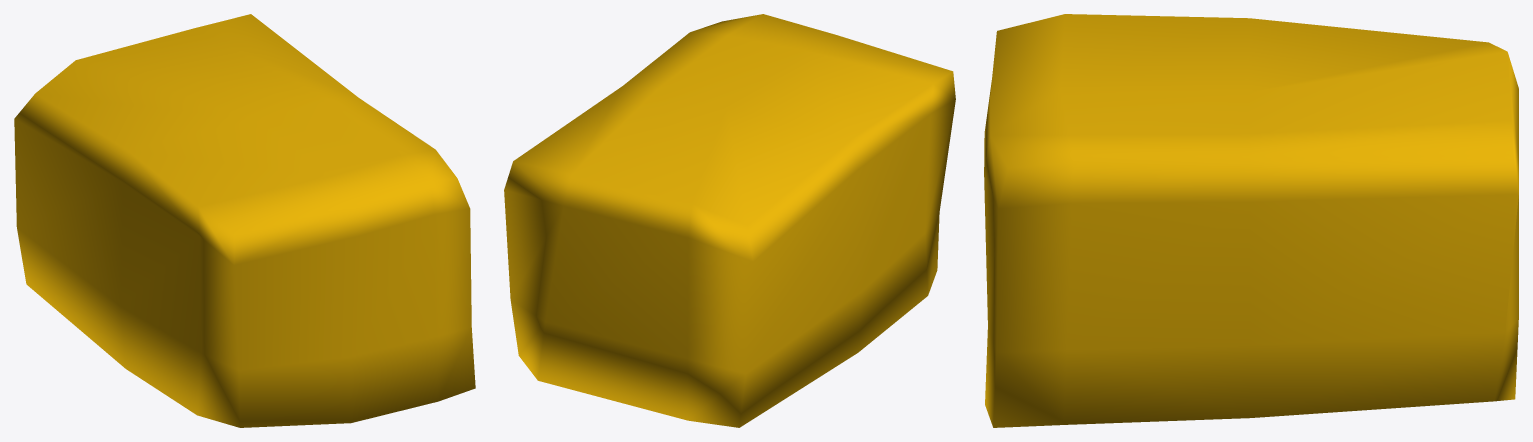
File: Stone_Block_04_Lod0.fbx
3 views of the same model, side by side, from view 1: azimuth 30°, elevation 25°; view 2: azimuth 150°, elevation 25°; view 3: azimuth 270°, elevation 25° (orthographic). The views are drawn at different scales.
Visible parts, largest first — view 1: Stone_Block_04_Lod0; view 2: Stone_Block_04_Lod0; view 3: Stone_Block_04_Lod0.
Boxes of the visible parts, x1,y1,x2,y2 form: Stone_Block_04_Lod0: (14, 14, 475, 427); Stone_Block_04_Lod0: (504, 14, 955, 427); Stone_Block_04_Lod0: (984, 14, 1518, 427).
Size of the model in its own units: 625 by 535 by 949.
